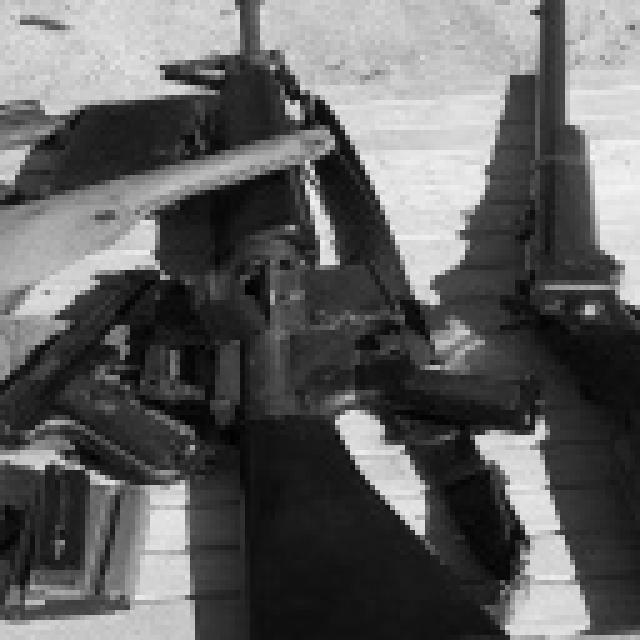Rifle: (496, 34, 640, 598), (0, 268, 245, 482), (500, 0, 640, 370)
